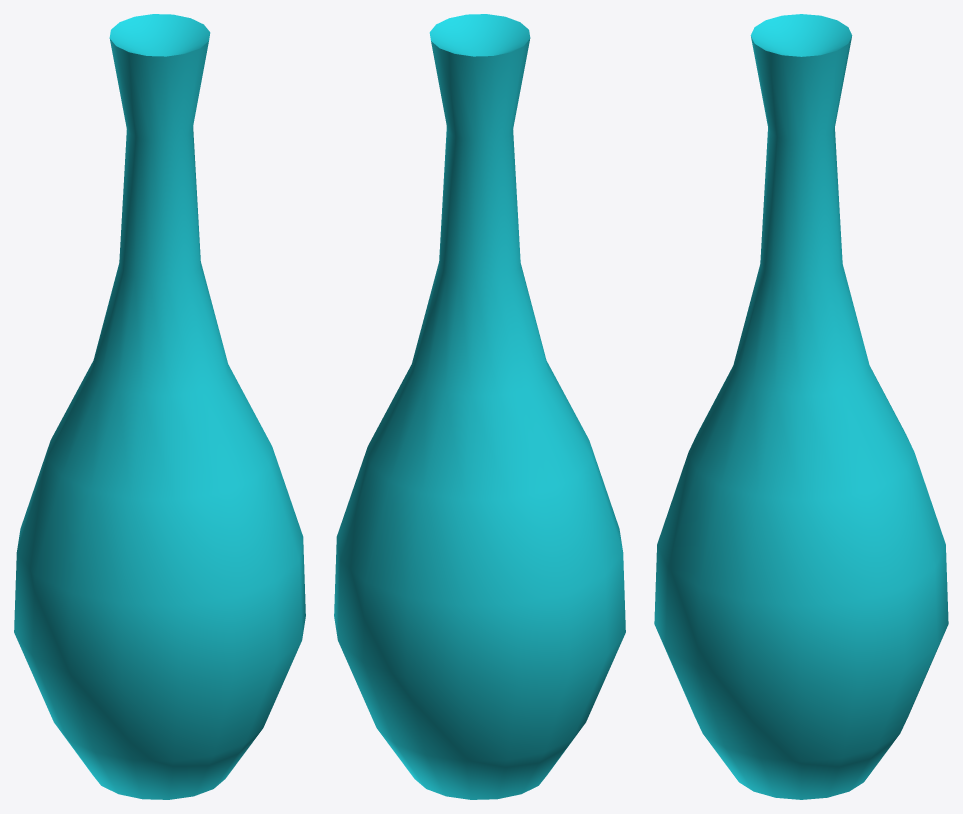
The model's file is Vase.fbx.
3 renders of one model, left to right at view 1: azimuth 30°, elevation 25°; view 2: azimuth 150°, elevation 25°; view 3: azimuth 270°, elevation 25°, orthographic.
Parts seen in each view (by area): view 1: Vase; view 2: Vase; view 3: Vase.
Boxes of the visible parts, x1,y1,x2,y2 form: Vase: [14, 14, 305, 799]; Vase: [334, 14, 625, 799]; Vase: [654, 14, 948, 799].
Bounding box in the file's own units: 21.74 × 60 × 21.74.
